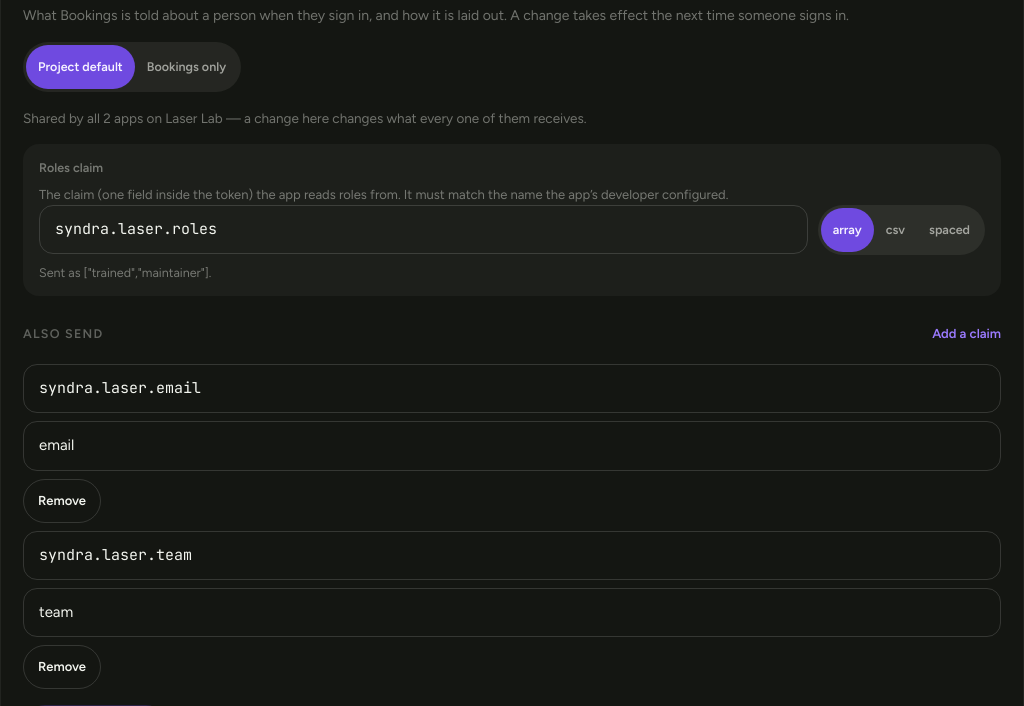
it: Discard in the token format editor › is simply back in reduced motion: no layer, no fade
Replace the text in the 2nd field named "Claim name" with "syndra.laser.group": coordinates (512, 555) x1=23 y1=531 x2=1001 y2=580
(page scrolled)
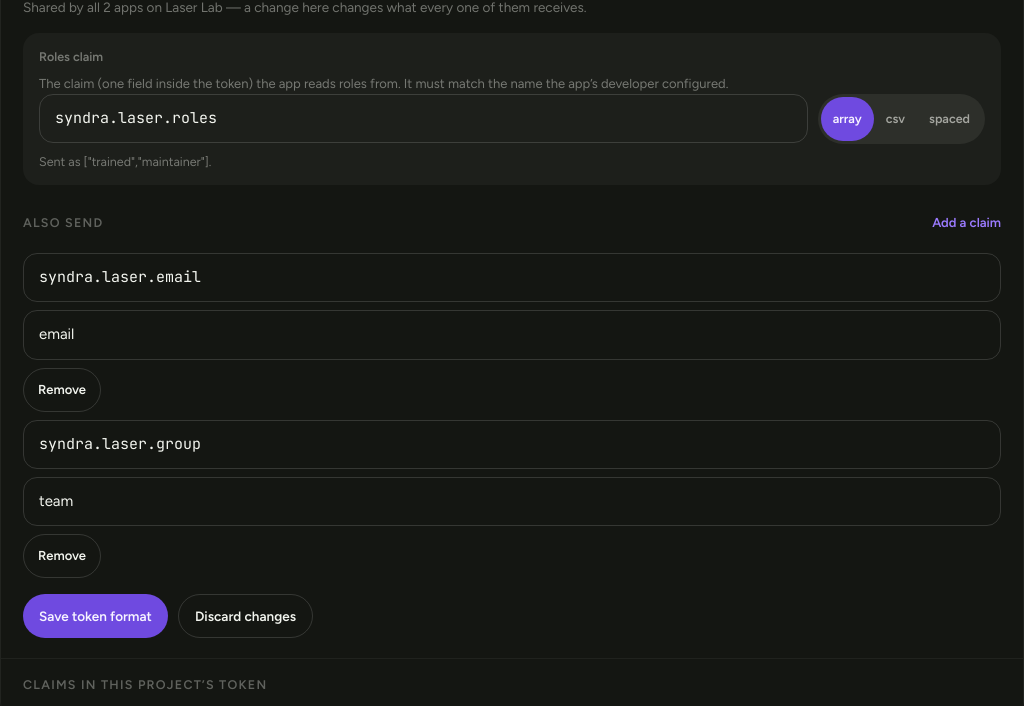
Click the button "Discard changes": coordinates (245, 616) x1=178 y1=594 x2=313 y2=638
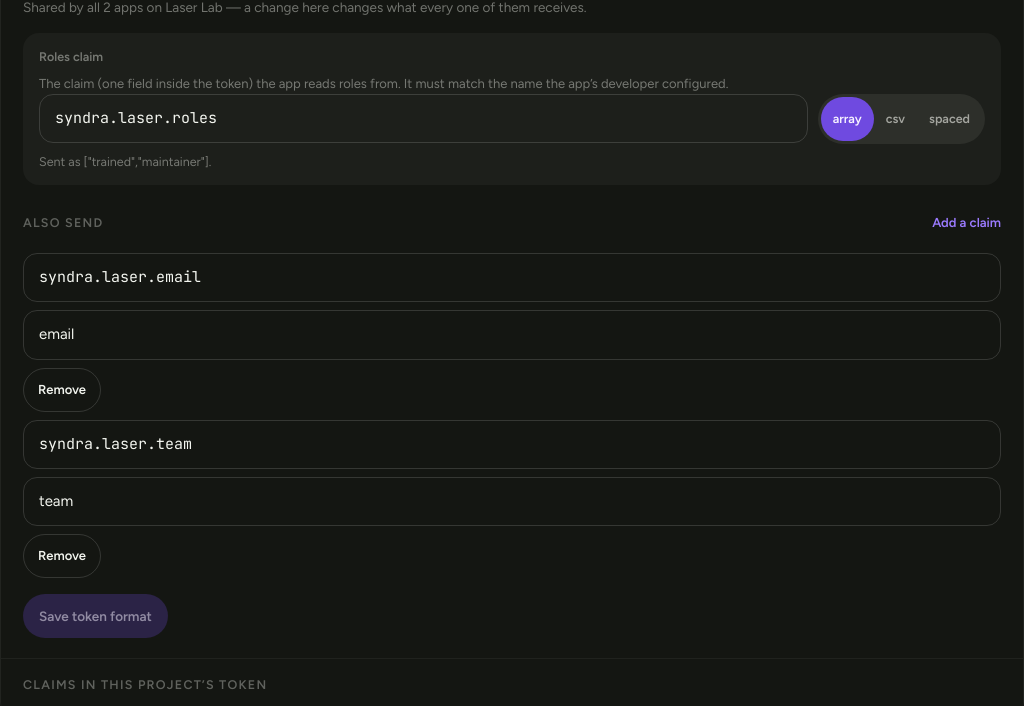
expect the field showing "syndra.laser.group" is not shown: met
expect the 2nd field showing "syndra.laser.team" is shown: met, box x1=23 y1=420 x2=1001 y2=469
